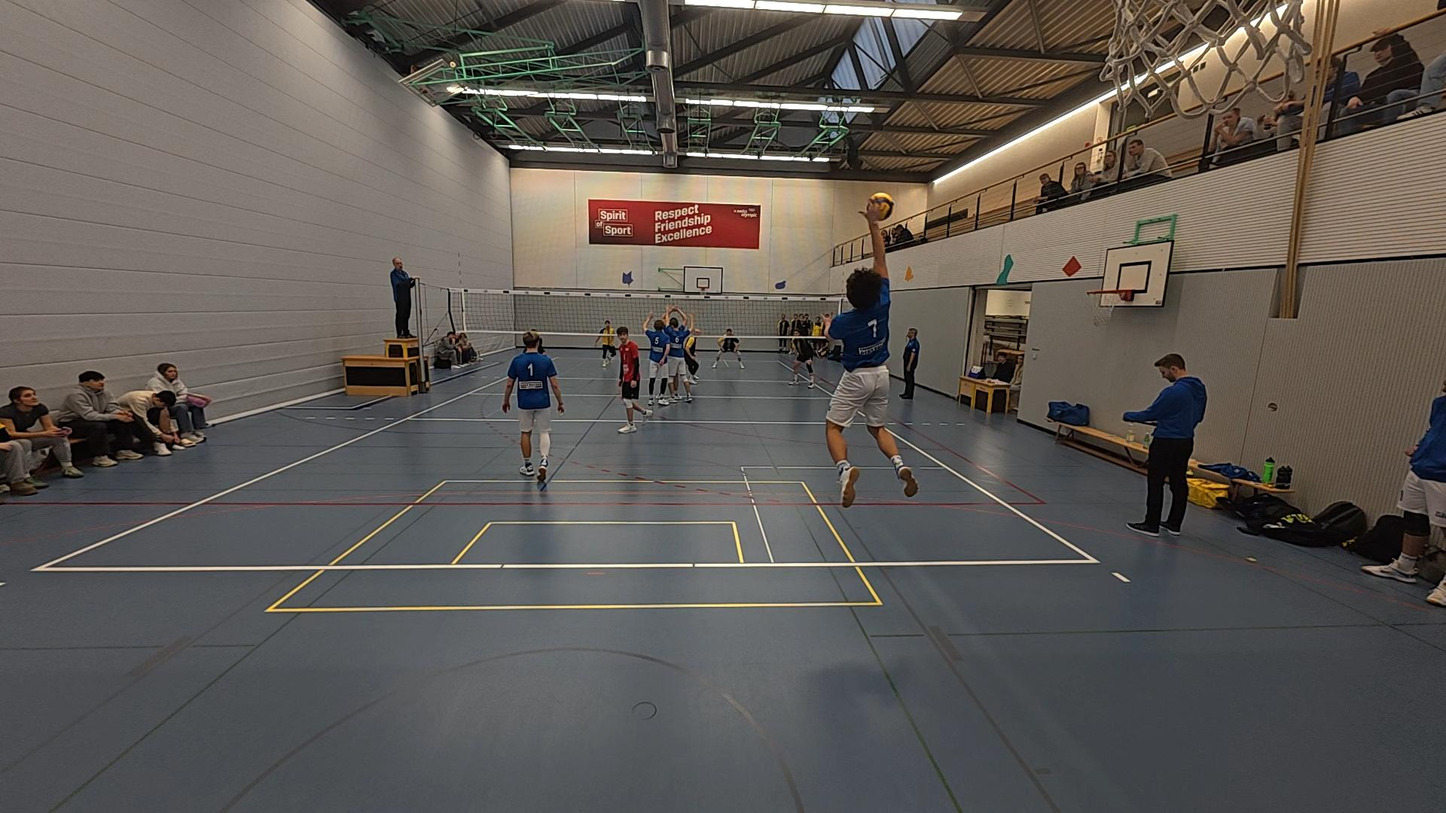battuta: (819, 199, 920, 508)
